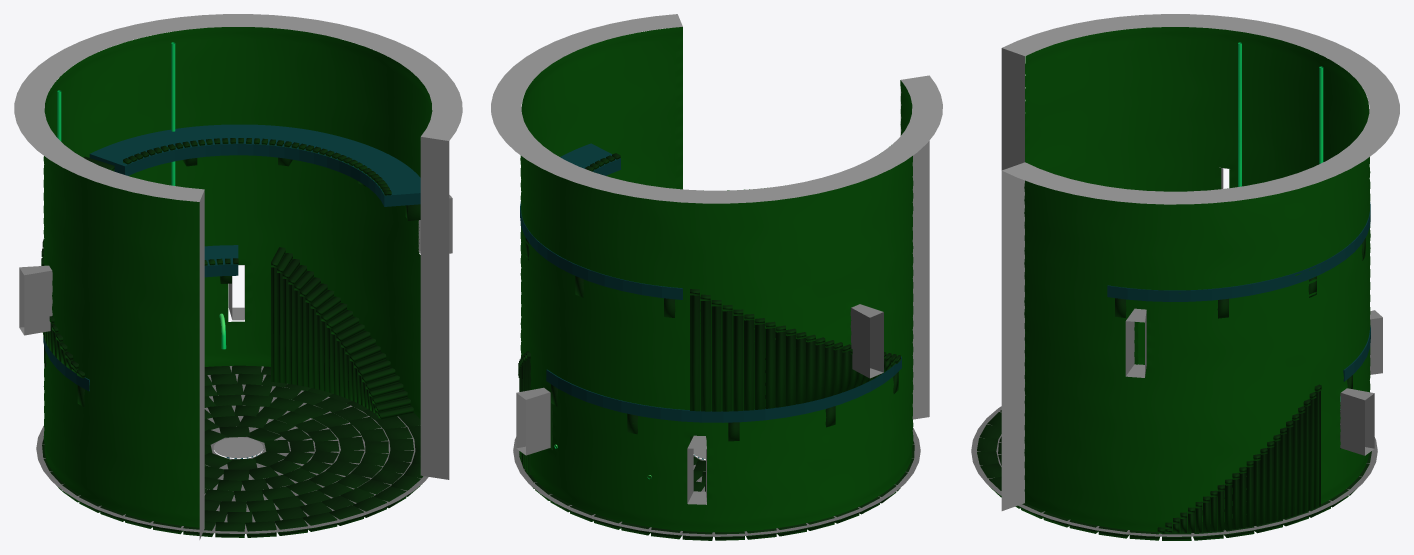
File: arena_tier_hall.glb
The picture shows the model from 3 angles, left to right: view 1: azimuth 30°, elevation 25°; view 2: azimuth 150°, elevation 25°; view 3: azimuth 270°, elevation 25°; orthographic projection.
Parts seen in each view (by area): view 1: arena_tier_hall; view 2: arena_tier_hall; view 3: arena_tier_hall.
Part boxes in pixels (<box>): arena_tier_hall: <box>14,14,462,539</box>; arena_tier_hall: <box>491,14,942,540</box>; arena_tier_hall: <box>971,14,1399,540</box>.
Size of what is drawn, in the model's own units: 16.19 by 13.8 by 15.39.
